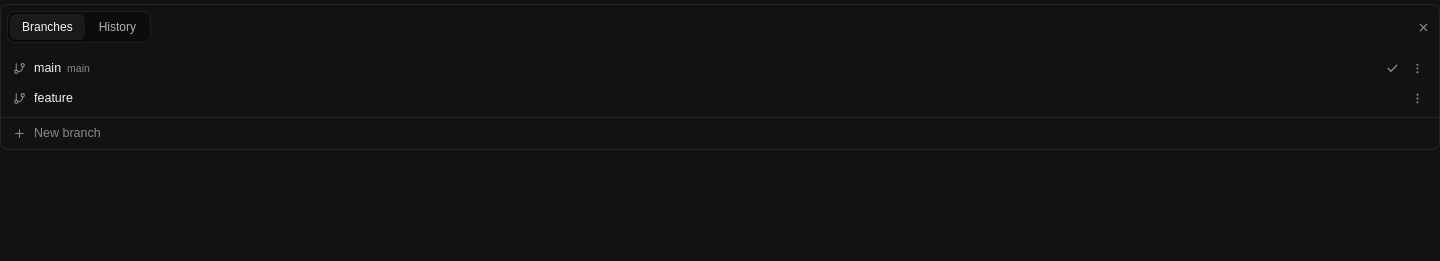
Test: BranchCard (B12) › outside mousedown closes the menu; menu-internal clicks do not
The width and height of the screenshot is (1440, 261).
Click the 5th button at [1417, 98], box [1410,92,1424,104]
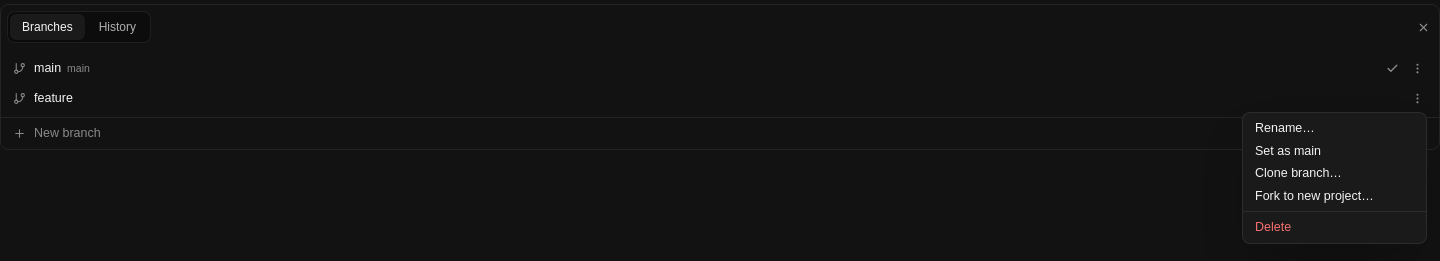
Check: the text "Rename…" is shown, box [1255,122,1315,134]
Press the mouse on the element that starts with "Branches" at [720, 77], box [0,4,1439,150]
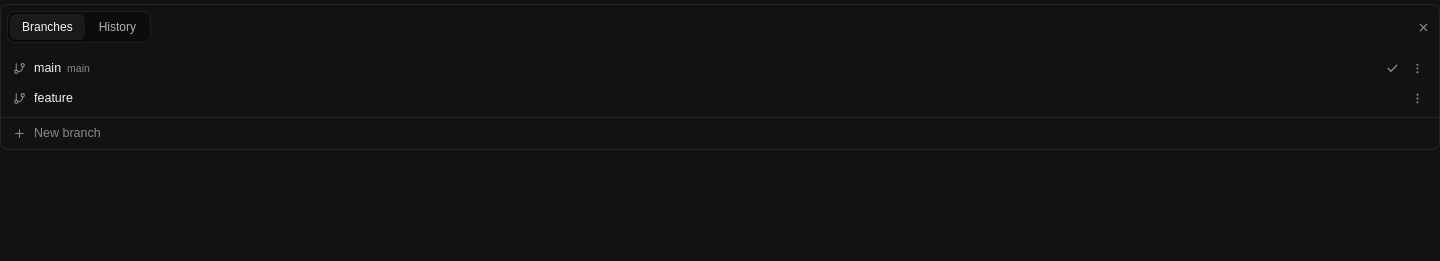
Check: the button "Rename…" is gone
